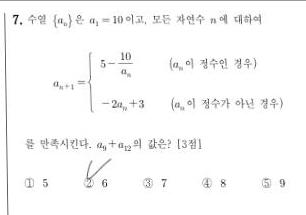choice: (81, 169, 97, 189)
not-choice: (22, 176, 36, 189), (142, 175, 154, 189), (201, 176, 213, 189), (260, 176, 272, 188)
